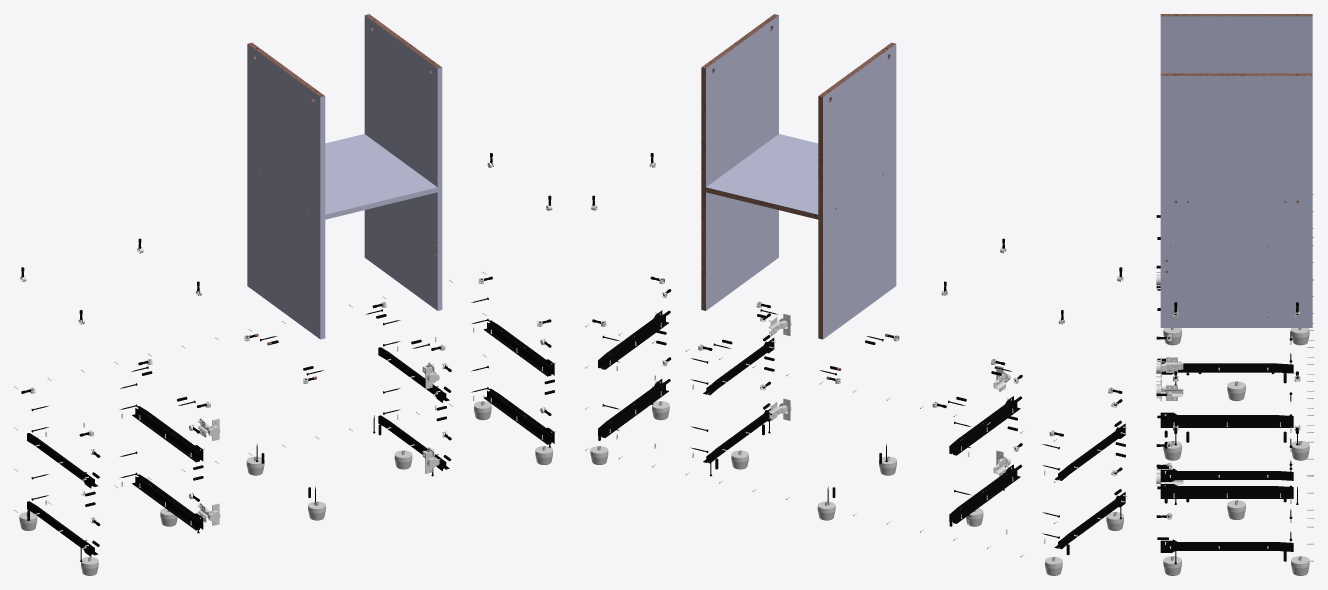
3 views of the same model, side by side, from view 1: azimuth 30°, elevation 25°; view 2: azimuth 150°, elevation 25°; view 3: azimuth 270°, elevation 25° (orthographic). The views are drawn at different scales.
Visible parts, largest first — view 1: Pieza 01, Pieza 09, Pieza 04, Corredera_350_20080001.010, Corredera_350_20080001.005, Corredera_350_20080001.004, Corredera_350_20080001.011, Corredera_350_20080001.006, Corredera_350_20080001.014; view 2: Pieza 01, Pieza 09, Pieza 04, Corredera_350_20080001.004, Corredera_350_20080001.005, Corredera_350_20080001.011, Corredera_350_20080001.010, Corredera_350_20080001.012, Corredera_350_20080001.014, Corredera_350_20080001.006; view 3: Pieza 09, Pieza 01, Corredera_350_20080001.003, Corredera_350_20080001.001, Corredera_350_20080001.015, Corredera_350_20080001.008, Corredera_350_20080001.007, Corredera_350_20080001.012, Corredera_350_20080001.009, Deslizador_0004696, Deslizador_0004696.002, Deslizador_0004696.006 (+7 smaller).
Part boxes in pixels (left/top/right/bottom): Pieza 01: left=247, top=42, right=325, bottom=339; Pieza 09: left=364, top=14, right=442, bottom=310; Pieza 04: left=325, top=134, right=437, bottom=219; Corredera_350_20080001.010: left=132, top=408, right=201, bottom=462; Corredera_350_20080001.005: left=132, top=476, right=201, bottom=530; Corredera_350_20080001.004: left=484, top=390, right=552, bottom=444; Corredera_350_20080001.011: left=483, top=322, right=552, bottom=376; Corredera_350_20080001.006: left=27, top=501, right=92, bottom=556; Corredera_350_20080001.014: left=27, top=433, right=92, bottom=488; Pieza 01: left=818, top=42, right=896, bottom=339; Pieza 09: left=701, top=14, right=778, bottom=310; Pieza 04: left=706, top=134, right=818, bottom=219; Corredera_350_20080001.004: left=599, top=382, right=668, bottom=437; Corredera_350_20080001.005: left=951, top=468, right=1020, bottom=523; Corredera_350_20080001.011: left=599, top=314, right=668, bottom=369; Corredera_350_20080001.010: left=951, top=400, right=1020, bottom=455; Corredera_350_20080001.012: left=708, top=338, right=774, bottom=395; Corredera_350_20080001.014: left=1059, top=423, right=1125, bottom=480; Corredera_350_20080001.006: left=1059, top=492, right=1125, bottom=549; Pieza 09: left=1160, top=73, right=1312, bottom=327; Pieza 01: left=1160, top=14, right=1312, bottom=259; Corredera_350_20080001.003: left=1160, top=417, right=1293, bottom=427; Corredera_350_20080001.001: left=1160, top=488, right=1293, bottom=498; Corredera_350_20080001.015: left=1160, top=468, right=1293, bottom=481; Corredera_350_20080001.008: left=1160, top=539, right=1293, bottom=552; Corredera_350_20080001.007: left=1161, top=362, right=1293, bottom=374; Corredera_350_20080001.012: left=1160, top=412, right=1293, bottom=418; Corredera_350_20080001.009: left=1160, top=484, right=1293, bottom=489; Deslizador_0004696: left=1227, top=381, right=1245, bottom=401; Deslizador_0004696.002: left=1227, top=500, right=1245, bottom=519; Deslizador_0004696.006: left=1291, top=556, right=1309, bottom=575.
Bounding box in the file's own units: 1.49 × 1.29 × 0.4156.
Materials: 6 (1 with a texture image).
